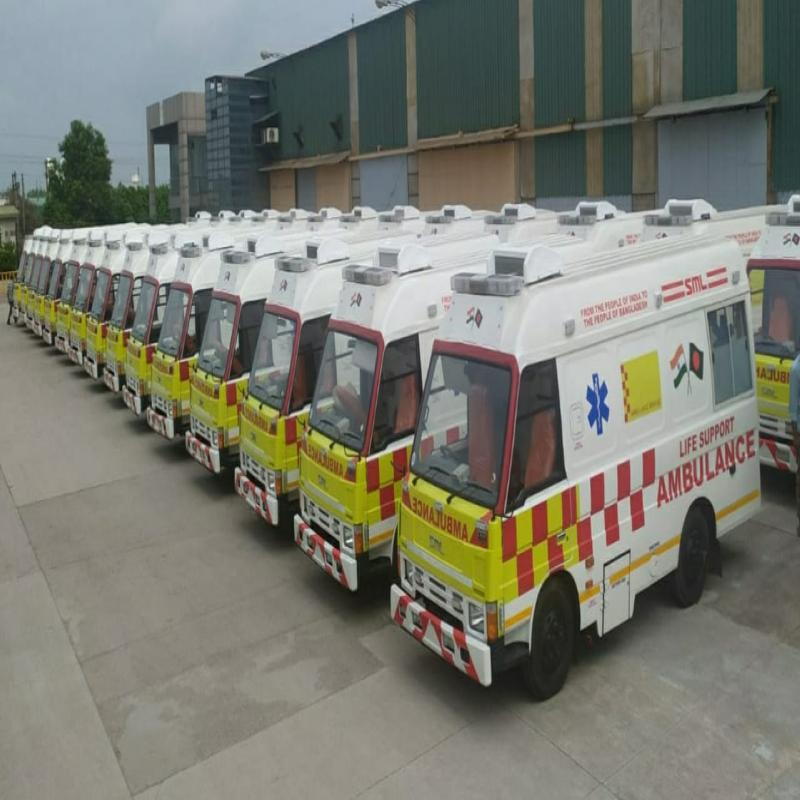AmbulanceSiren: (446, 256, 518, 311), (342, 256, 393, 297), (273, 238, 313, 284), (218, 237, 250, 274)
ambulance: (387, 214, 768, 711), (284, 243, 529, 588), (218, 253, 413, 510), (181, 236, 334, 500)
